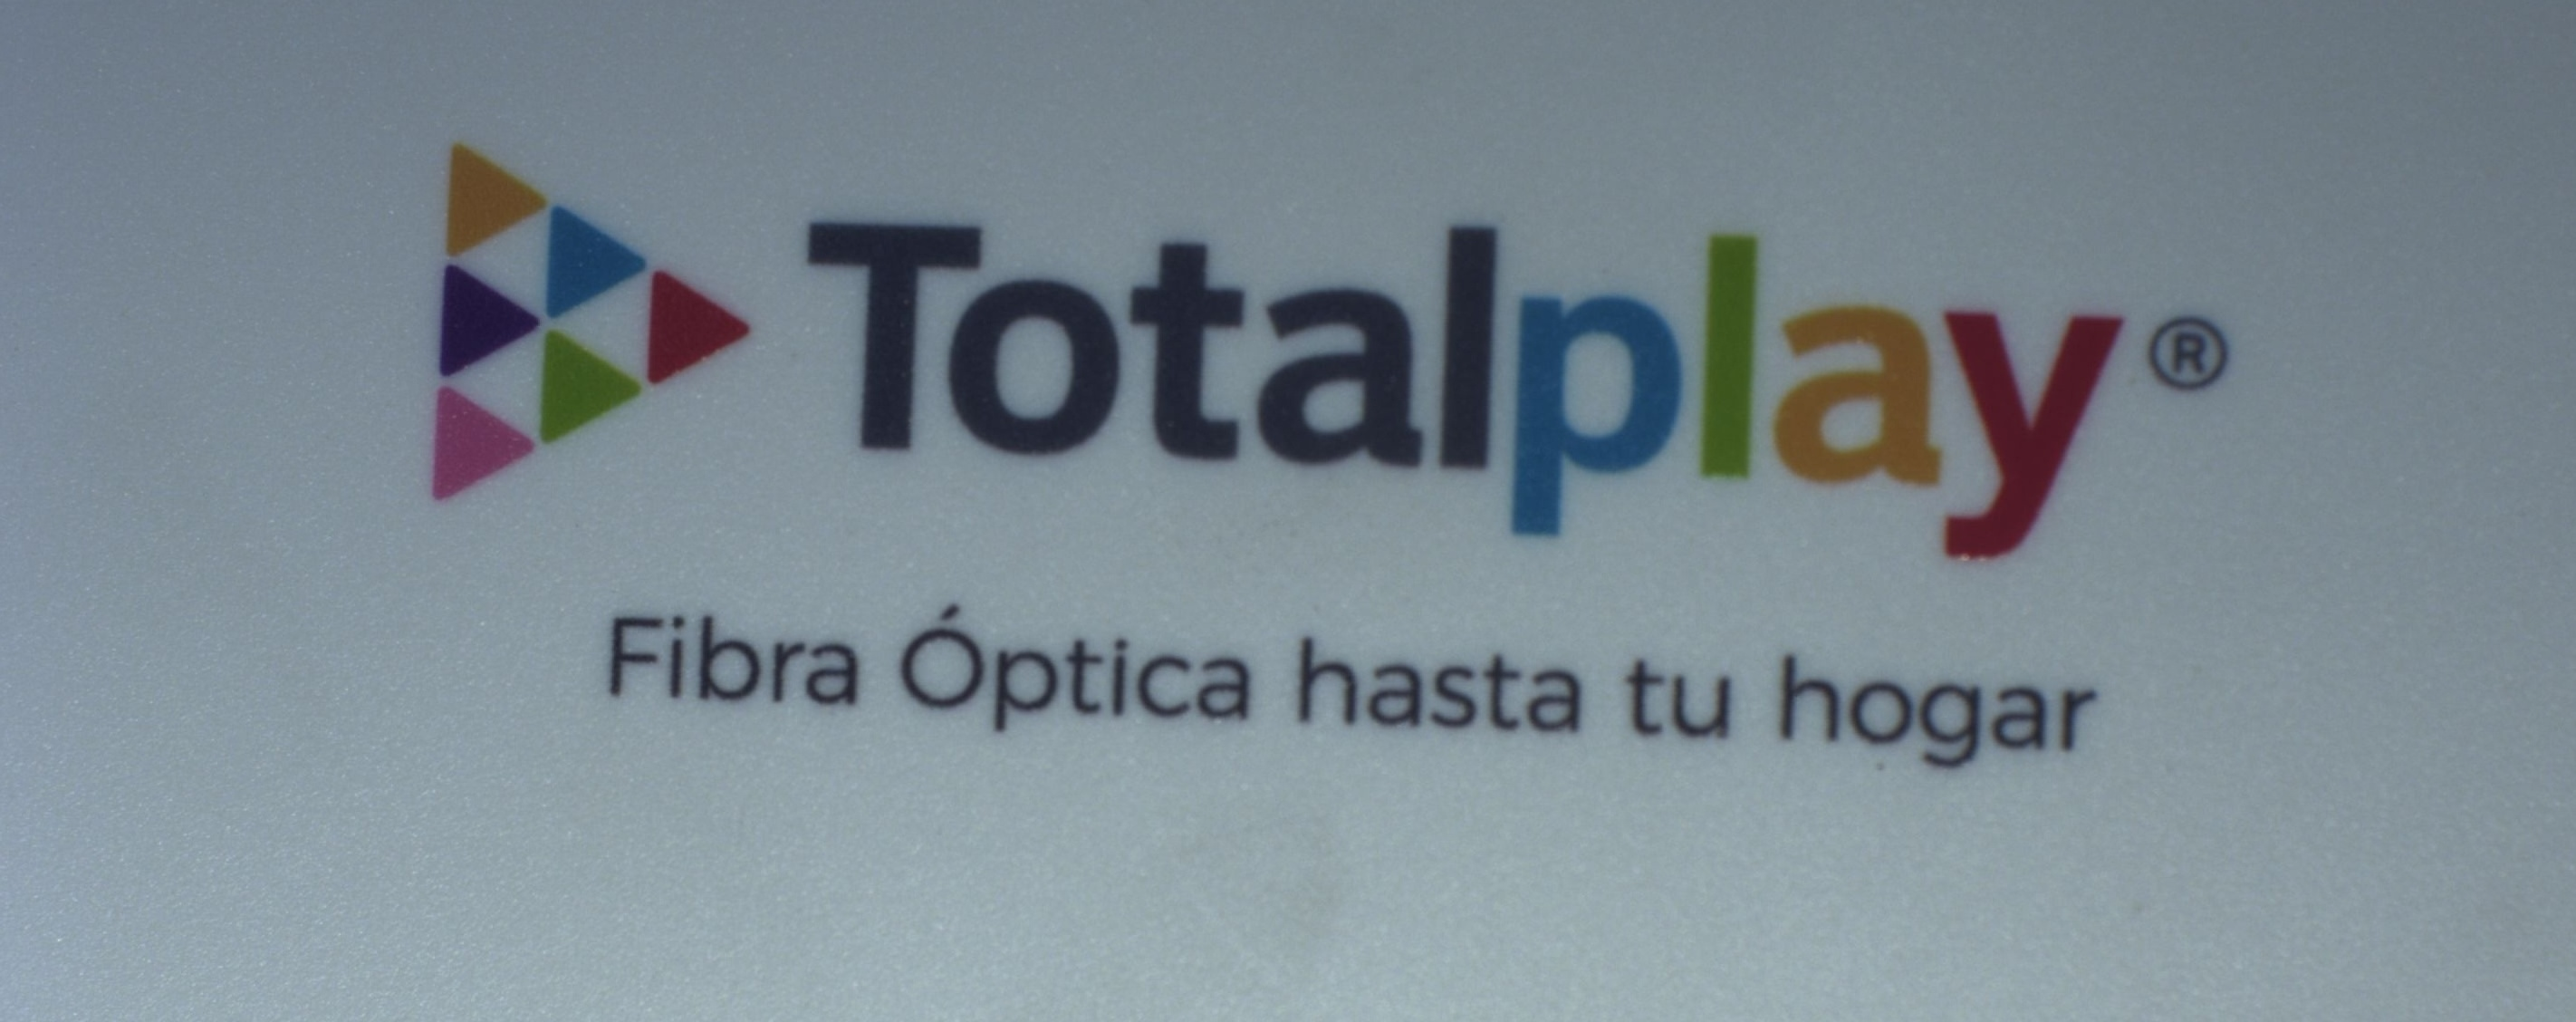BP_TotalPlay: (409, 123, 2251, 782)
